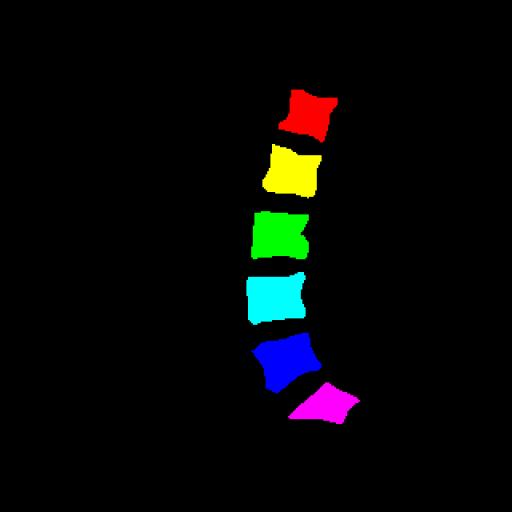L1: (278, 90, 338, 142)
L2: (262, 144, 322, 197)
L3: (251, 211, 309, 259)
L4: (246, 272, 306, 325)
L5: (252, 333, 321, 393)
S1: (288, 382, 360, 424)
